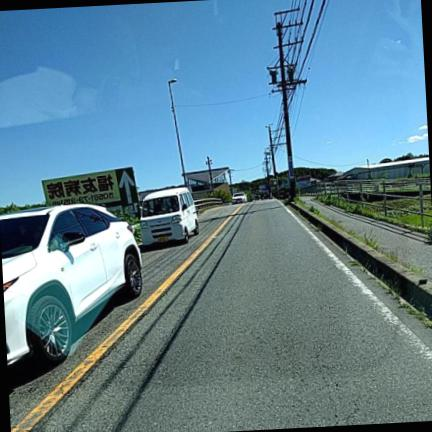Road: (30, 200, 431, 431)
